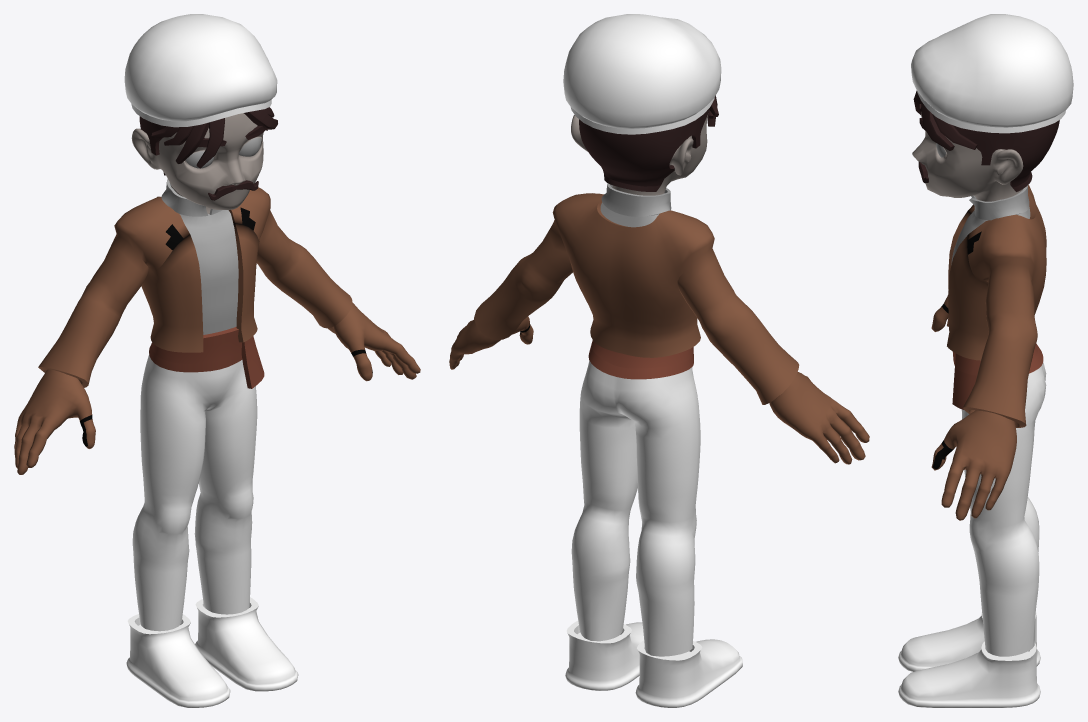
Rendered from Chulapo_Final.fbx.
3 renders of one model, left to right at view 1: azimuth 30°, elevation 25°; view 2: azimuth 150°, elevation 25°; view 3: azimuth 270°, elevation 25°, orthographic. The views are drawn at different scales.
Parts seen in each view (by area): view 1: Pantalones, Saco, Boina, Zapato, Manos, Cabeza, Camisa, Cinturon, Mechones; view 2: Pantalones, Saco, Boina, Zapato, Manos, Cabello, Cinturon, Camisa, Cabeza; view 3: Saco, Boina, Pantalones, Zapato, Manos, Cabeza, Cabello, Camisa, Cinturon, Mechones.
Part boxes in pixels (left/top/right/bottom): Pantalones: left=132, top=354, right=257, bottom=631; Saco: left=38, top=187, right=352, bottom=387; Boina: left=124, top=14, right=277, bottom=127; Zapato: left=126, top=597, right=298, bottom=707; Manos: left=14, top=303, right=420, bottom=474; Cabeza: left=131, top=113, right=263, bottom=214; Camisa: left=161, top=178, right=238, bottom=334; Cinturon: left=149, top=326, right=264, bottom=388; Mechones: left=151, top=107, right=277, bottom=168; Pantalones: left=571, top=361, right=700, bottom=656; Saco: left=474, top=193, right=799, bottom=404; Boina: left=563, top=14, right=721, bottom=134; Zapato: left=565, top=620, right=742, bottom=707; Manos: left=449, top=316, right=869, bottom=464; Cabello: left=579, top=109, right=708, bottom=191; Cinturon: left=588, top=340, right=693, bottom=379; Camisa: left=600, top=183, right=671, bottom=227; Cabeza: left=571, top=113, right=708, bottom=195; Saco: left=947, top=185, right=1046, bottom=427; Boina: left=911, top=14, right=1073, bottom=133; Pantalones: left=961, top=362, right=1046, bottom=656; Zapato: left=898, top=611, right=1040, bottom=707; Manos: left=931, top=295, right=1016, bottom=520; Cabeza: left=912, top=112, right=1023, bottom=201; Cabello: left=953, top=120, right=1059, bottom=191; Camisa: left=951, top=185, right=1030, bottom=264; Cinturon: left=952, top=343, right=1043, bottom=409; Mechones: left=913, top=90, right=977, bottom=150.
Bounding box in the file's own units: 0.0755 × 0.1157 × 0.0281.
